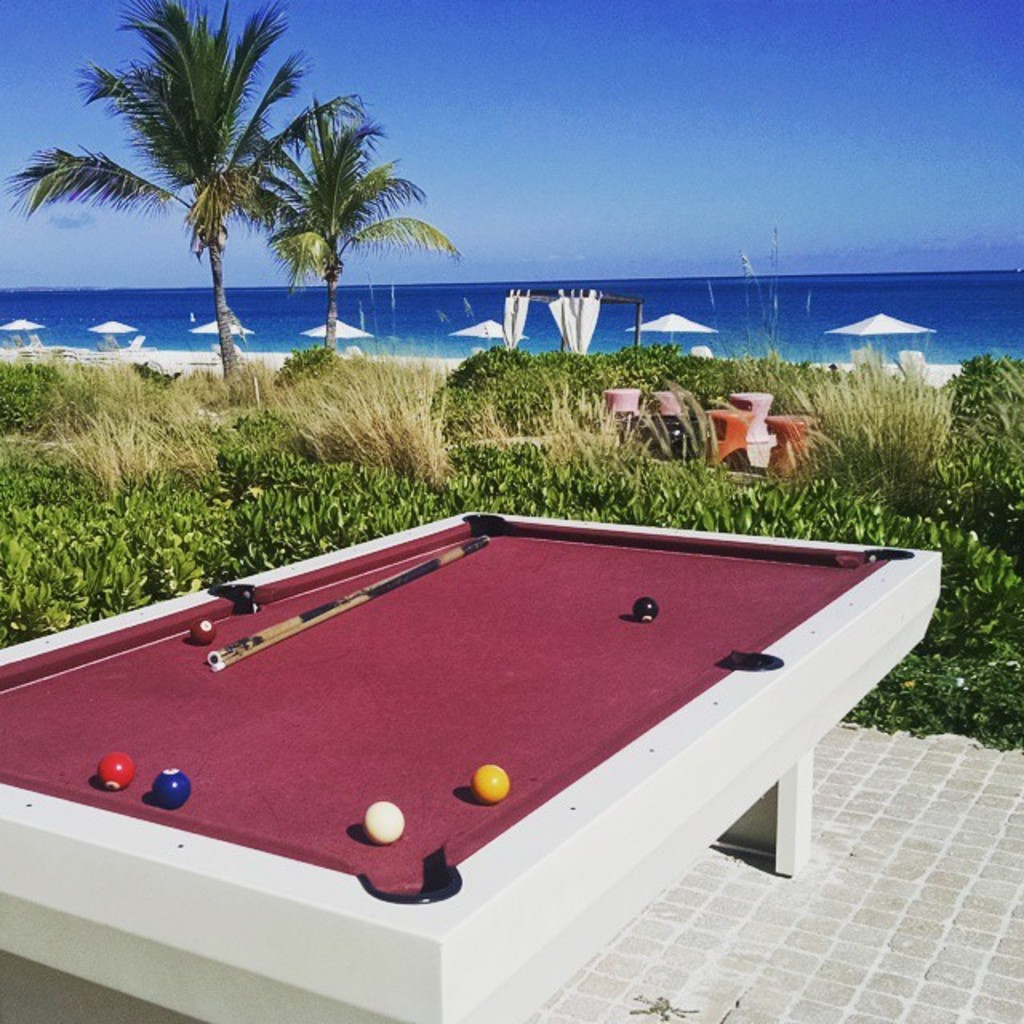Ball: (362, 800, 406, 850), (470, 762, 514, 800), (149, 768, 187, 810), (99, 749, 136, 792), (189, 618, 218, 645), (630, 597, 661, 621)
